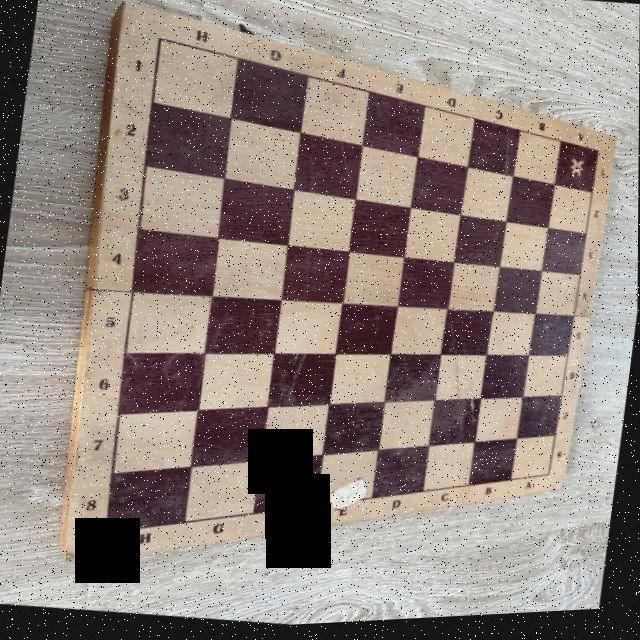chess-table-corners: (94, 522, 120, 543), (148, 29, 169, 50), (538, 472, 558, 488), (588, 149, 606, 165)
